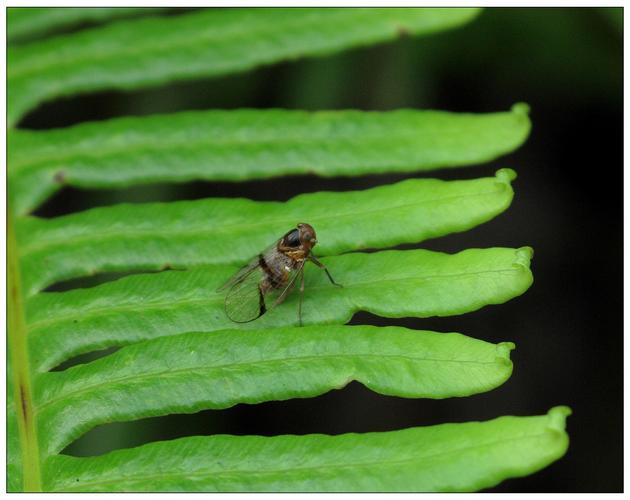Delphacidae: (214, 222, 345, 327)
